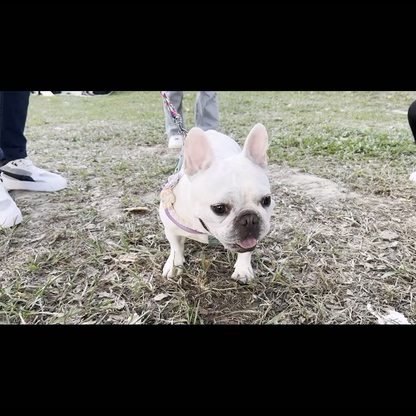bulldog: (153, 120, 278, 287)
